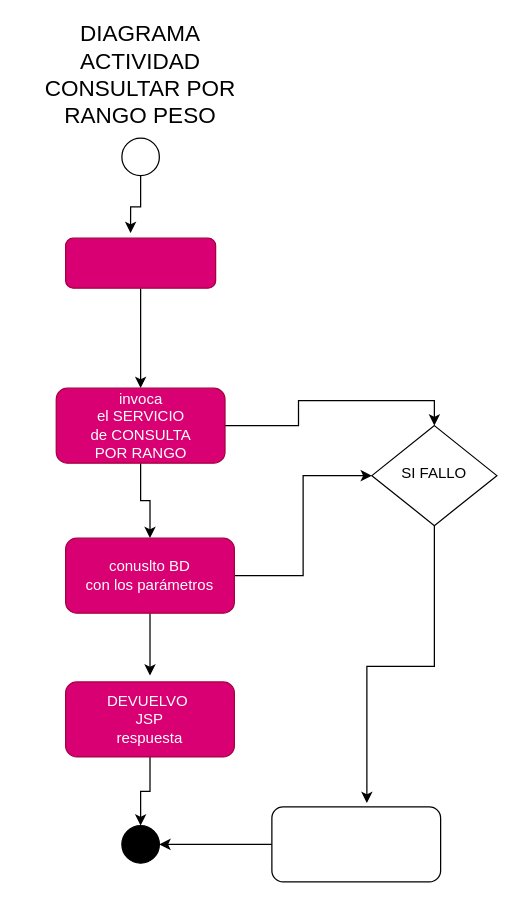
Image size: 519x904. Some labels were removed from this diagram. The shapes that lost their labels are listed below. From the top down, each one's box as (x1, y1, x2, y2) in pixels, then its label:
(64, 237, 216, 288): mostrar busquedarango.html
(271, 806, 441, 882): DEVUELVO JSP ERROR
